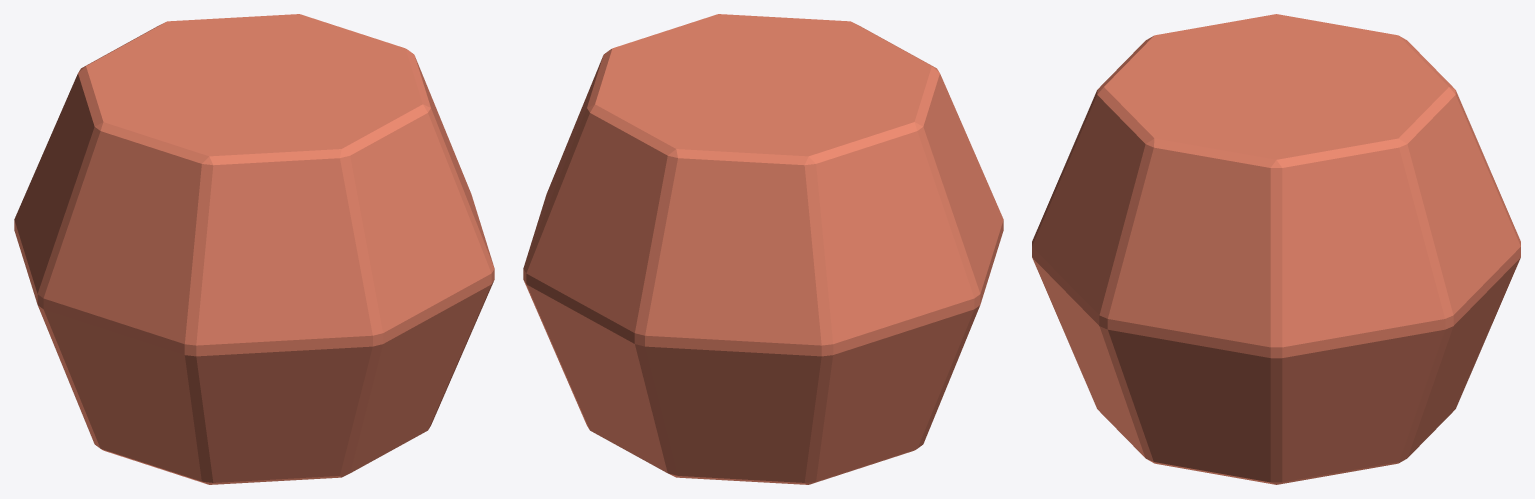
Rendered from Vase 2.fbx.
3 views of the same model, side by side, from view 1: azimuth 30°, elevation 25°; view 2: azimuth 150°, elevation 25°; view 3: azimuth 270°, elevation 25° (orthographic).
Parts seen in each view (by area): view 1: Vase 2; view 2: Vase 2; view 3: Vase 2.
Part boxes in pixels (x1,y1,x2,y2): Vase 2: (14, 14, 494, 484); Vase 2: (523, 14, 1003, 484); Vase 2: (1032, 14, 1520, 484).
Size of the model in its own units: 155 by 114 by 155.
